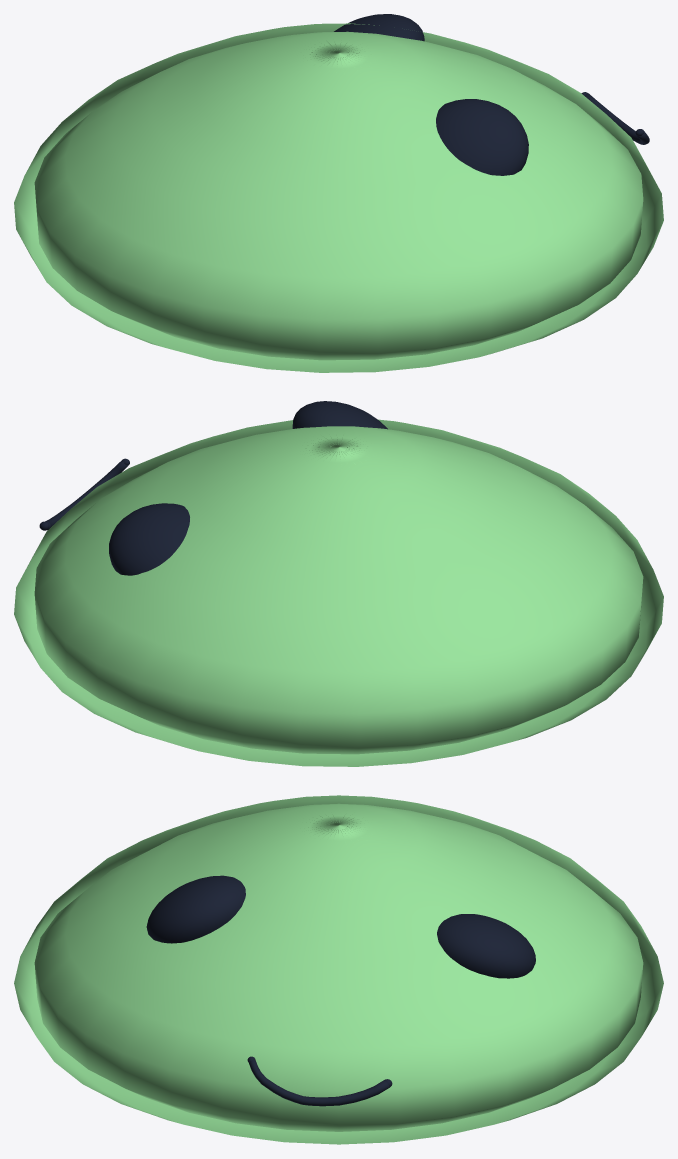
File: Slime.glb
3 renders of one model, top to bottom at view 1: azimuth 30°, elevation 25°; view 2: azimuth 150°, elevation 25°; view 3: azimuth 270°, elevation 25°, orthographic.
Visible parts, largest first — view 1: InnerSkin; view 2: InnerSkin; view 3: InnerSkin.
Boxes of the visible parts, <box> form: InnerSkin: <box>14,14,663,372</box>; InnerSkin: <box>14,401,663,766</box>; InnerSkin: <box>14,795,663,1144</box>.
Bounding box in the file's own units: 0.8942 × 0.3098 × 0.8899.
